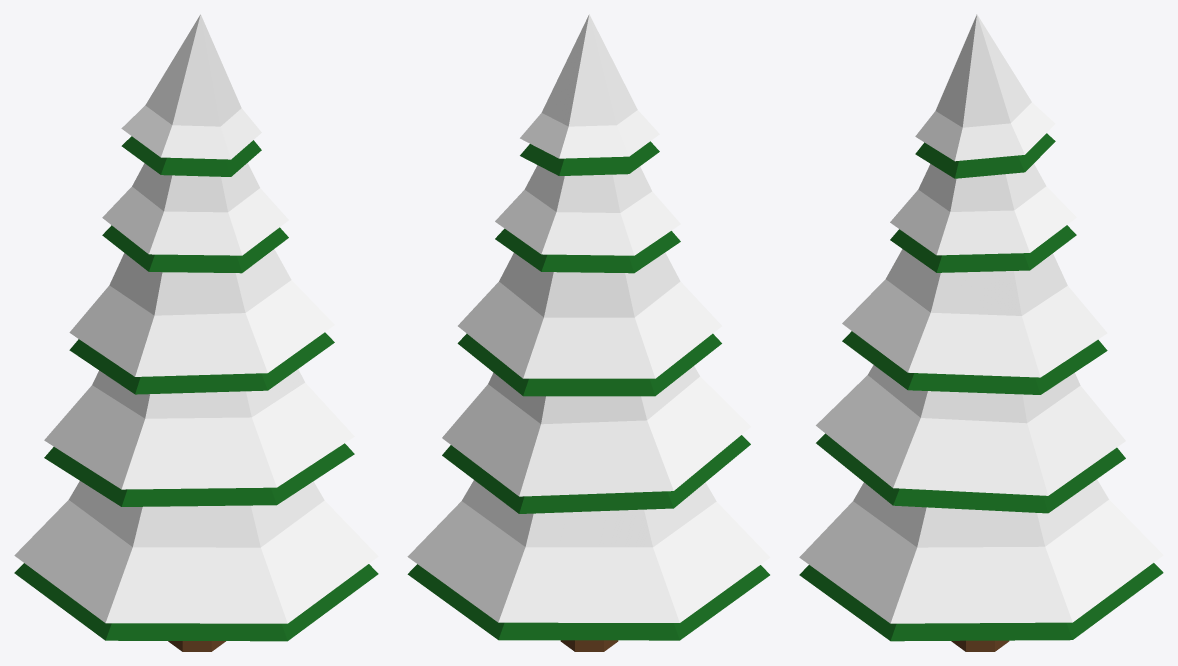
The model's file is talvi_kuusi1.fbx.
The picture shows the model from 3 angles, left to right: view 1: azimuth 30°, elevation 25°; view 2: azimuth 150°, elevation 25°; view 3: azimuth 270°, elevation 25°; orthographic projection.
Parts seen in each view (by area): view 1: Cone.001, Cone; view 2: Cone.001, Cone, Cylinder; view 3: Cone.001, Cone, Cylinder.
Boxes of the visible parts, x1,y1,x2,y2 form: Cone.001: (14, 14, 378, 623); Cone: (14, 136, 378, 641); Cone.001: (407, 14, 770, 622); Cone: (407, 141, 769, 640); Cylinder: (560, 640, 618, 651); Cone.001: (799, 14, 1163, 623); Cone: (799, 133, 1163, 641); Cylinder: (951, 640, 1009, 651).
Bounding box in the file's own units: 543 × 1192 × 627.
